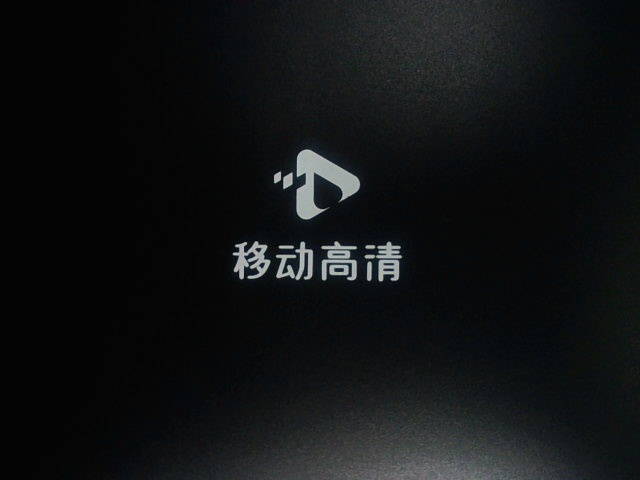AO_MobileHD: (217, 139, 410, 295)
